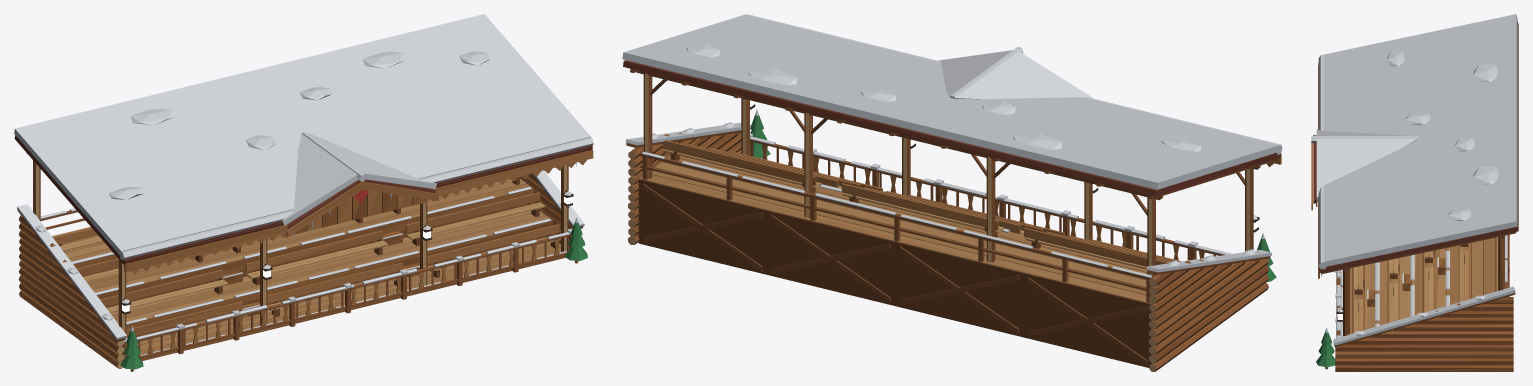
The model's file is stand-alps.glb.
3 renders of one model, left to right at view 1: azimuth 30°, elevation 25°; view 2: azimuth 150°, elevation 25°; view 3: azimuth 270°, elevation 25°, orthographic. The views are drawn at different scales.
Parts seen in each view (by area): view 1: stand-alps; view 2: stand-alps; view 3: stand-alps.
Boxes of the visible parts, left/top/right/bottom form: stand-alps: left=14, top=14, right=593, bottom=371; stand-alps: left=622, top=14, right=1282, bottom=371; stand-alps: left=1311, top=14, right=1518, bottom=371.
Size of the model in its own units: 22.3 by 7.67 by 9.42.
